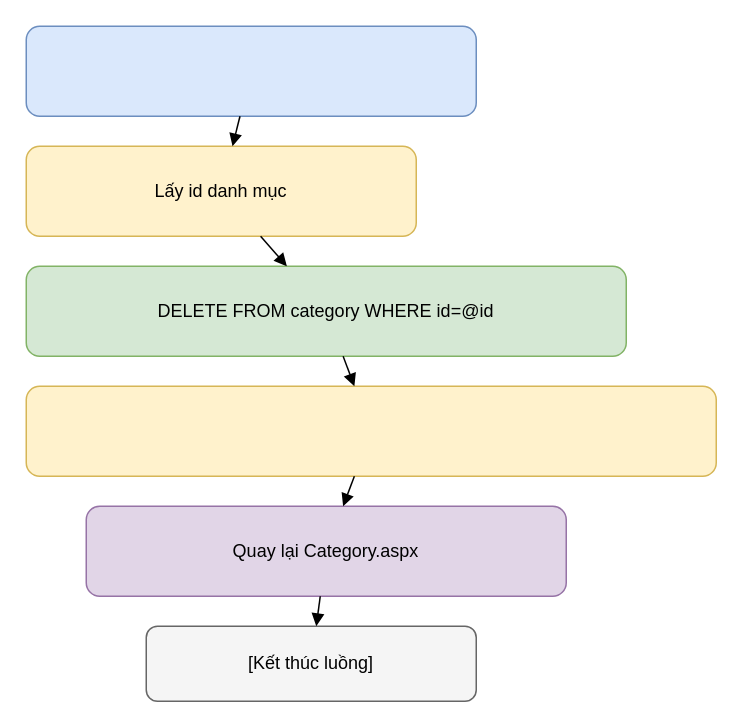
The diagram is 743 pixels wide and 728 high, and some of its shapes have lost their labels. The shapes that lost their labels are listed below. From the top down, each one's centre as x and y in pixels, then its label:
point 250,70: [Nhấn nút Xóa]
point 370,430: Session['ToastMessage'] = 'Xóa danh mục thành công!'
